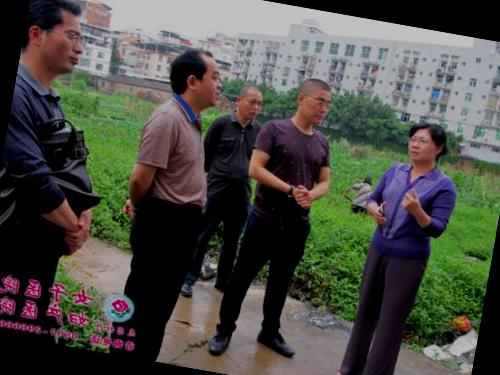no_helmet: (20, 0, 96, 80), (161, 43, 226, 111), (286, 72, 338, 128), (399, 115, 450, 170), (230, 80, 270, 126)
